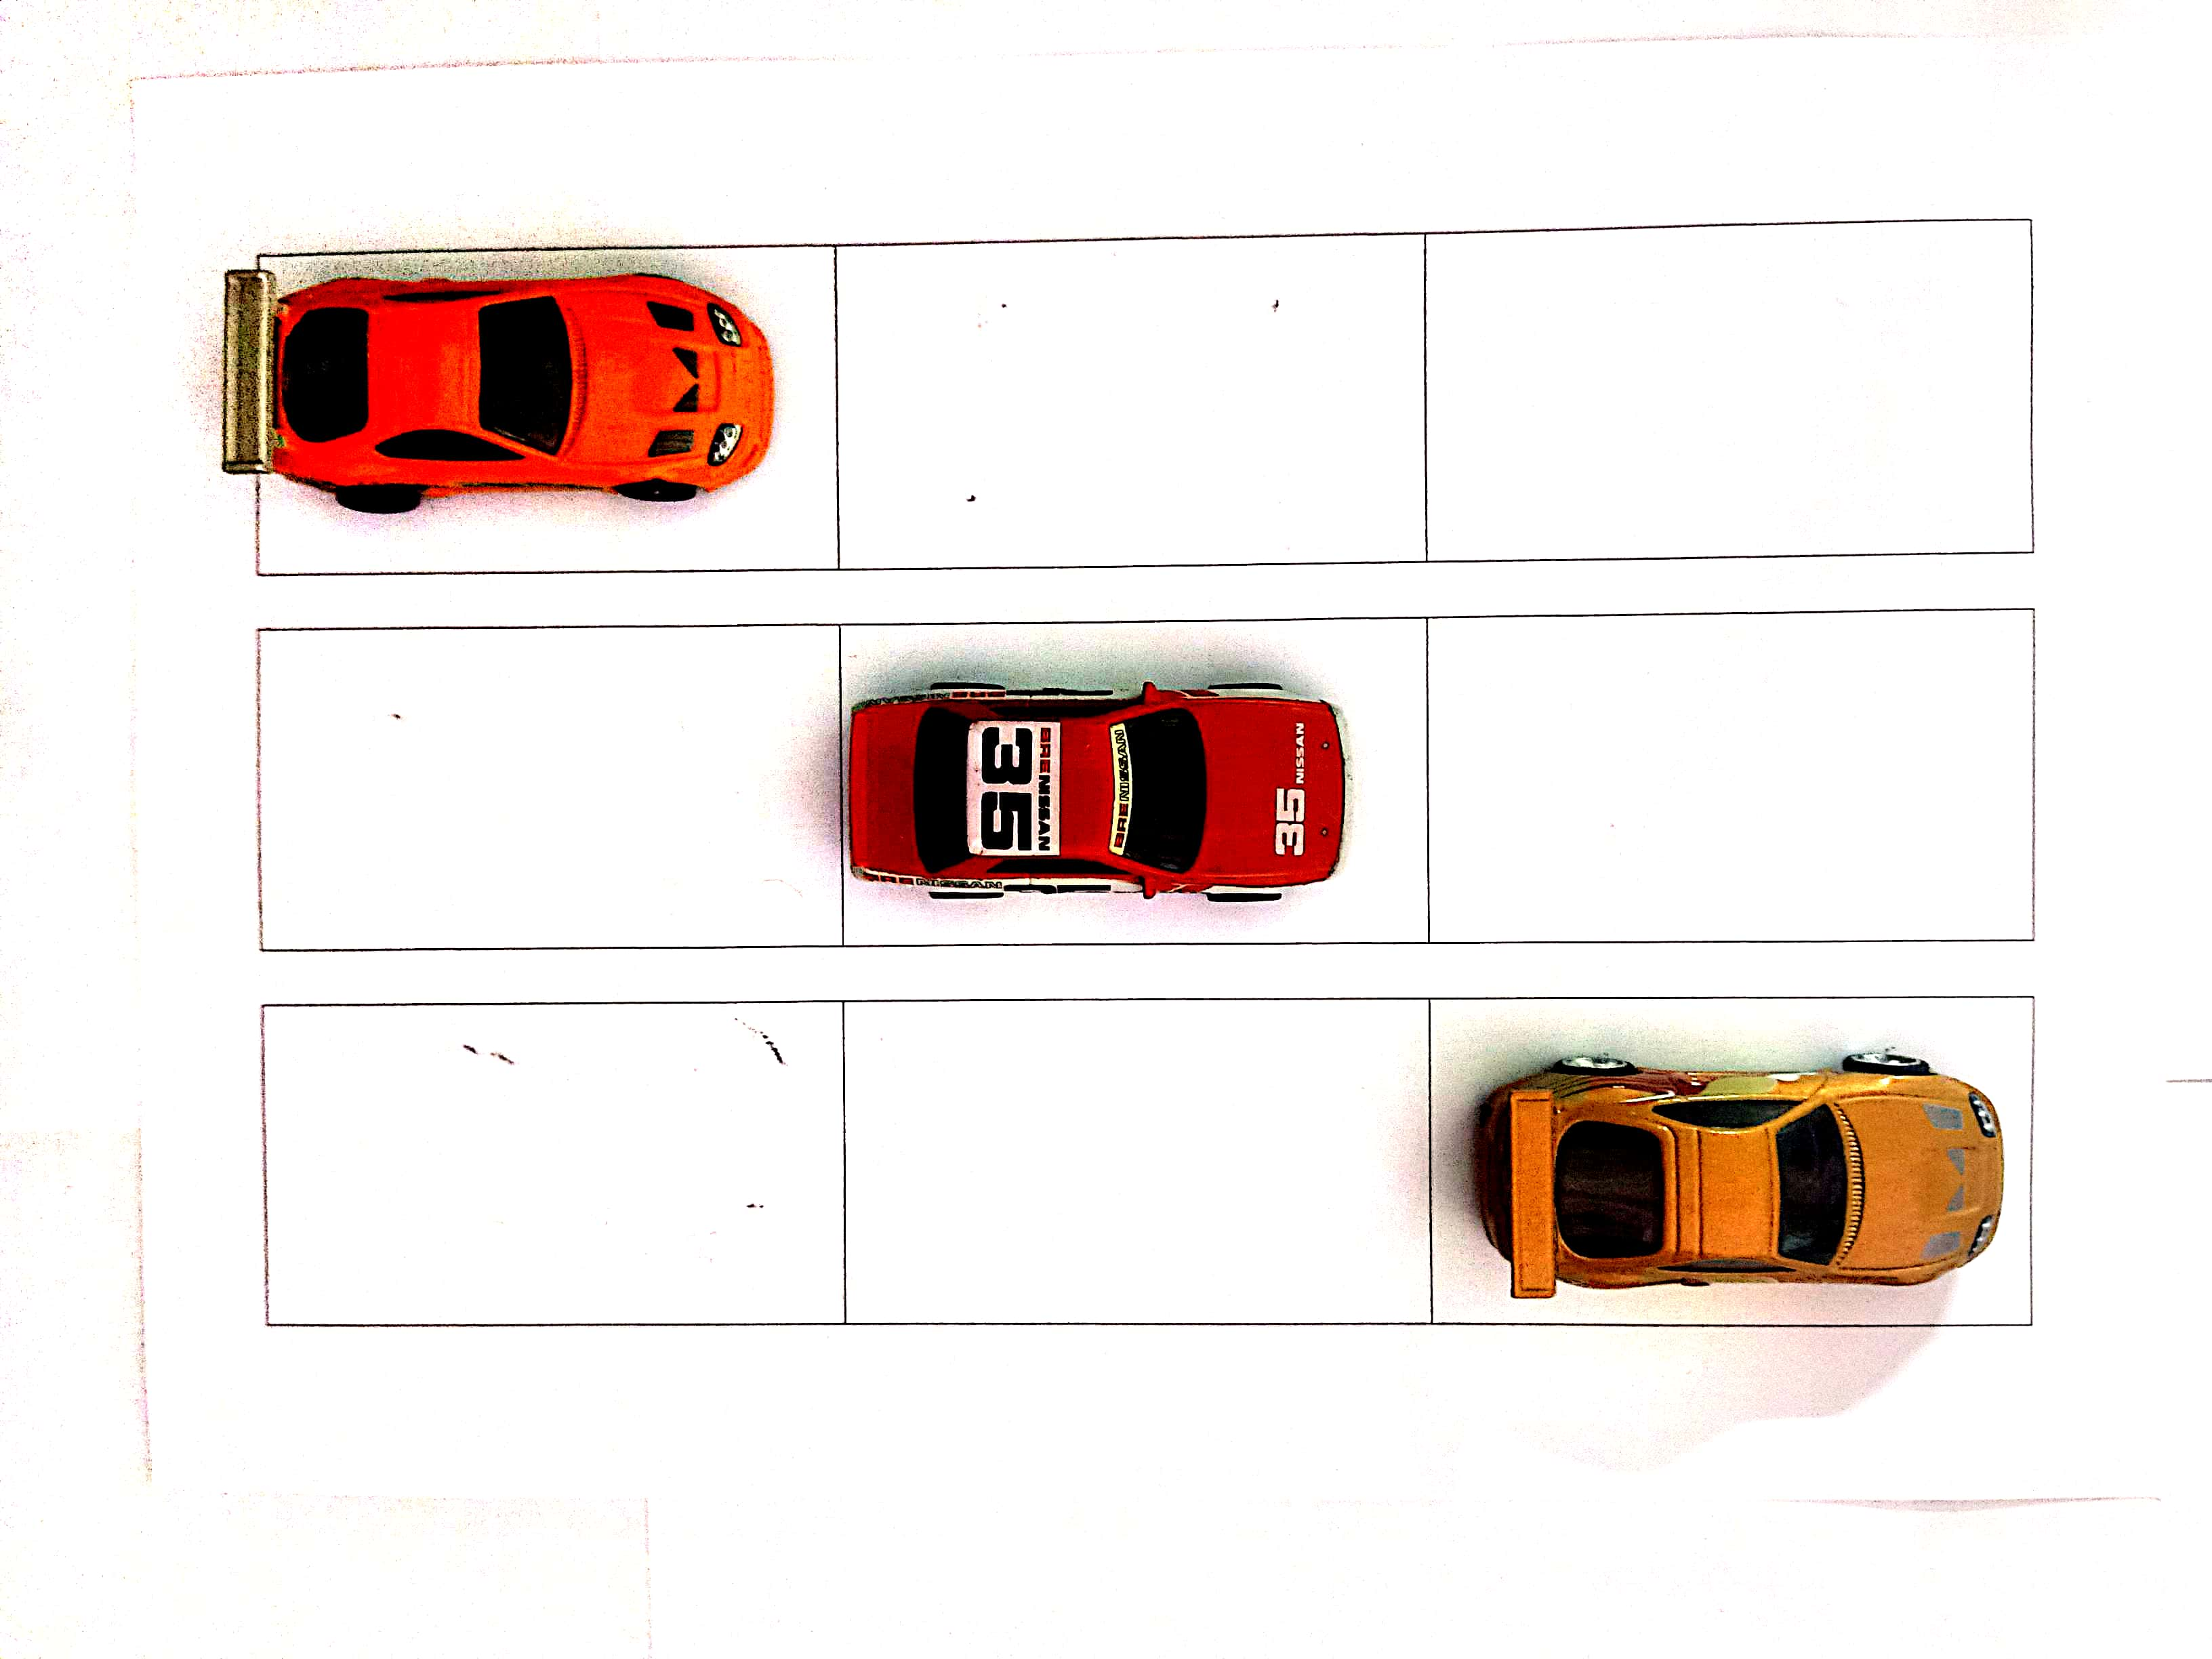Busy: (1437, 992, 2031, 1321), (848, 626, 1432, 948), (258, 253, 833, 566)
Free: (1426, 230, 2031, 570), (258, 990, 833, 1331), (1432, 610, 2031, 936), (840, 997, 1432, 1323), (829, 239, 1426, 561), (263, 613, 843, 943)
